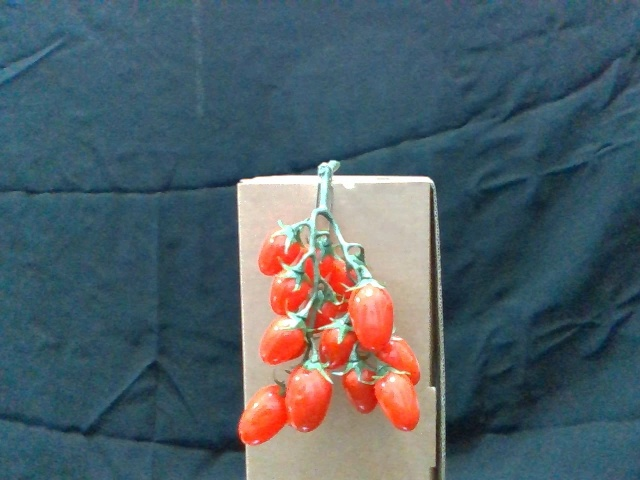tomato: (286, 362, 334, 433), (352, 277, 396, 348), (239, 383, 287, 445), (377, 371, 419, 431), (258, 220, 305, 273), (261, 316, 309, 364), (273, 265, 313, 317), (380, 337, 423, 384), (320, 316, 356, 367), (343, 366, 380, 413)
